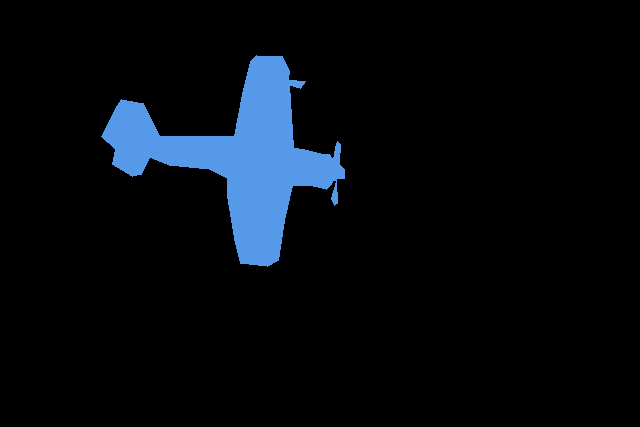Airplane: (101, 55, 344, 267)
